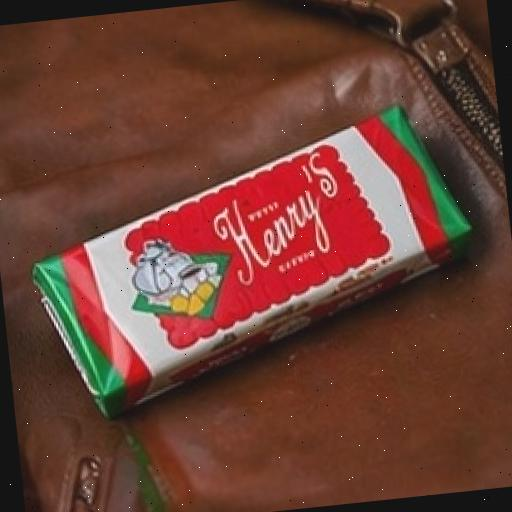golden: (0, 91, 512, 424)
